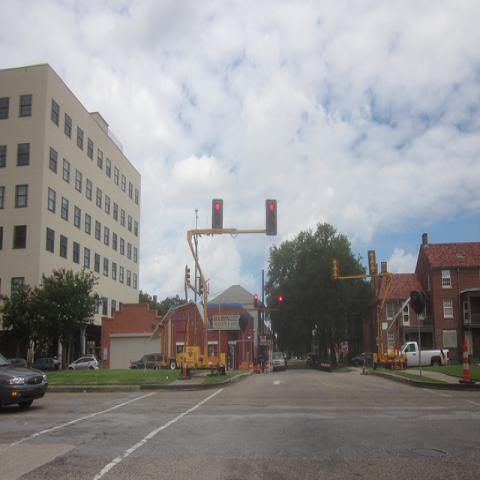car: (1, 353, 48, 411), (129, 352, 168, 370), (68, 356, 98, 371), (33, 356, 61, 372), (272, 352, 288, 372), (314, 355, 332, 371), (309, 355, 318, 366)
truck: (401, 341, 449, 367), (373, 350, 394, 368)
